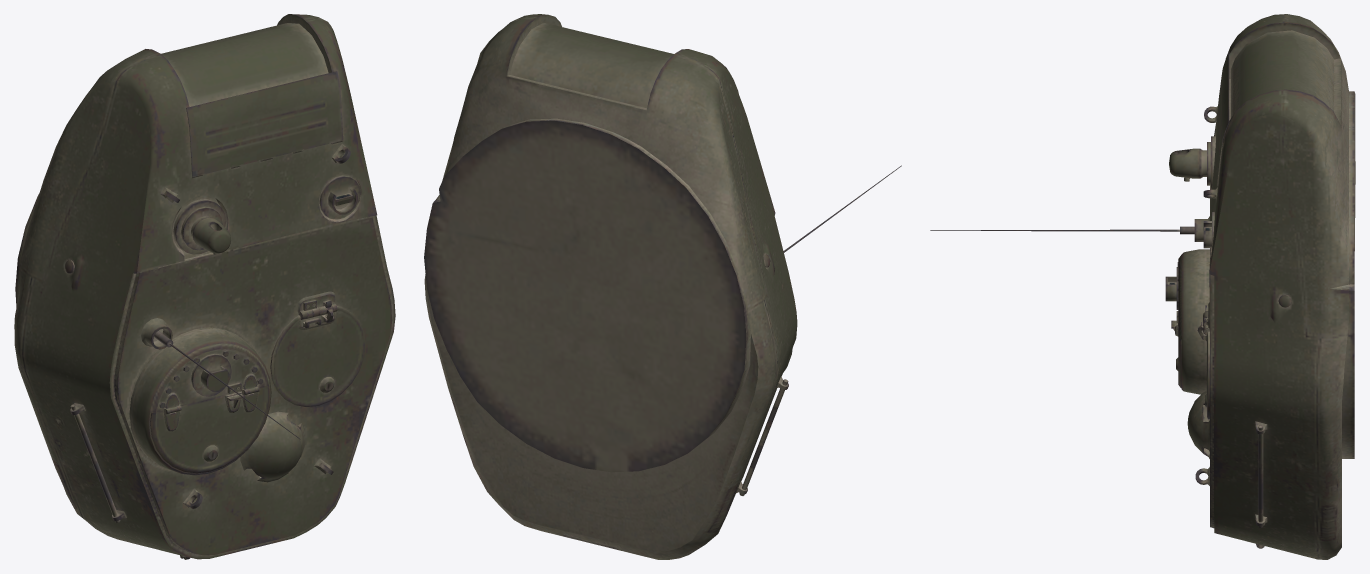
The model's file is Turret_02.glb.
3 views of the same model, side by side, from view 1: azimuth 30°, elevation 25°; view 2: azimuth 150°, elevation 25°; view 3: azimuth 270°, elevation 25° (orthographic). The views are drawn at different scales.
Visible parts, largest first — view 1: set_0_group_0; view 2: set_0_group_0; view 3: set_0_group_0.
Part boxes in pixels (left/top/right/bottom): set_0_group_0: left=14, top=14, right=395, bottom=559; set_0_group_0: left=424, top=14, right=901, bottom=559; set_0_group_0: left=930, top=14, right=1355, bottom=559.
Size of the model in its own units: 2.05 by 2.76 by 2.22.
Materials: 1 (1 with a texture image).
